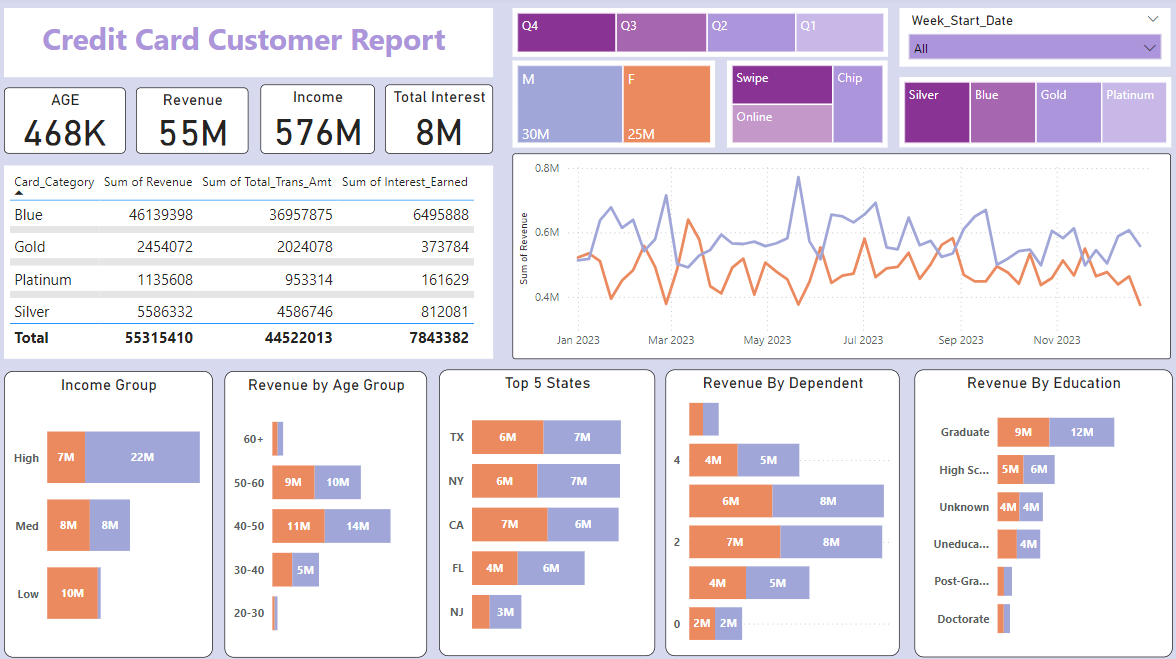

This screenshot's page, from the dashboard's own definition file:
{"tool":"powerbi","page":{"name":"Page 3","canvas":[1280,720],"ordinal":2},"visuals":[{"type":"slicer","fields":{"Values":["credit_card.Week_Start_Date"]},"box":[976.6,12.7,292.7,63.6],"z":0},{"type":"textbox","box":[9.5,12.7,528.1,74.8],"z":1},{"type":"barChart","title":"Income Group","fields":{"Y":["Sum(credit_card.Revenue)"],"Category":["customer.IncomeGroup"],"Series":["customer.Gender"]},"box":[9.7,404.8,225.1,309.3],"z":2},{"type":"tableEx","fields":{"Values":["credit_card.Card_Category","Sum(credit_card.Revenue)","Sum(credit_card.Total_Trans_Amt)","Sum(credit_card.Interest_Earned)"]},"box":[9.5,182.9,528.1,208.4],"z":3},{"type":"card","title":"Revenue","fields":{"Values":["Sum(credit_card.Revenue)"]},"box":[152.2,98.8,121.4,71.2],"z":4},{"type":"card","title":"AGE","fields":{"Values":["Sum(customer.Customer_Age)"]},"box":[9.7,98.8,131.2,71.2],"z":5},{"type":"card","title":"Total Interest","fields":{"Values":["Sum(credit_card.Interest_Earned)"]},"box":[421,95.5,116.6,74.5],"z":6},{"type":"card","title":"Income","fields":{"Values":["Sum(customer.Income)"]},"box":[286.6,95.5,123.1,74.5],"z":7},{"type":"treemap","fields":{"Group":["credit_card.Qtr"],"Values":["Avg(credit_card.Client_Num)"]},"box":[558.3,12.7,405.6,52.5],"z":8},{"type":"treemap","fields":{"Values":["Avg(credit_card.Client_Num)"],"Group":["credit_card.Card_Category"]},"box":[976.4,87.4,293.1,76.1],"z":10},{"type":"lineChart","title":"Revenue by week","fields":{"Y":["Sum(credit_card.Revenue)"],"Series":["customer.Gender"],"Category":["credit_card.Week_Start_Date.Variation.Date Hierarchy.Year","credit_card.Week_Start_Date.Variation.Date Hierarchy.Month","credit_card.Week_Start_Date.Variation.Date Hierarchy.Day"]},"box":[558.6,170,710.8,221.8],"z":12},{"type":"barChart","title":" Revenue by Age Group","fields":{"Y":["Sum(credit_card.Revenue)"],"Category":["customer.AgeGroup"],"Series":["customer.Gender"]},"box":[247.7,404.8,218.6,309.3],"z":14},{"type":"barChart","title":"Top 5 States","fields":{"Y":["Sum(credit_card.Revenue)"],"Category":["customer.state_cd"],"Series":["customer.Gender"]},"box":[479.3,403.2,233.2,309.3],"z":15},{"type":"treemap","fields":{"Group":["customer.Gender"],"Values":["Sum(credit_card.Revenue)"]},"box":[558.6,69.6,218.6,93.9],"z":16},{"type":"barChart","title":"Revenue By Dependent","fields":{"Y":["Sum(credit_card.Revenue)"],"Category":["customer.Dependent_Count"],"Series":["customer.Gender"]},"box":[723.8,403.2,252.6,309.3],"z":17},{"type":"barChart","title":"Revenue By Education","fields":{"Y":["Sum(credit_card.Revenue)"],"Category":["customer.Education_Level"],"Series":["customer.Gender"]},"box":[992.6,403.2,278.5,310.9],"z":18},{"type":"treemap","fields":{"Group":["credit_card.Use Chip"],"Values":["Avg(credit_card.Client_Num)"]},"box":[790.2,69.6,173.3,93.9],"z":19}]}

Visuals, with their boxes in screenshot pixels (x1, y1, x2, y2), scaled from the page's 1280x720 canvas onto the 1176x659 screenshot:
slicer - credit_card.Week_Start_Date: 897,12,1166,70
textbox: 9,12,494,80
"Income Group" barChart: 9,371,216,654
tableEx - credit_card.Card_Category x Sum(credit_card.Revenue): 9,167,494,358
"Revenue" card: 140,90,251,156
"AGE" card: 9,90,129,156
"Total Interest" card: 387,87,494,156
"Income" card: 263,87,376,156
treemap - credit_card.Qtr x Avg(credit_card.Client_Num): 513,12,886,60
treemap - Avg(credit_card.Client_Num) x credit_card.Card_Category: 897,80,1166,150
"Revenue by week" lineChart: 513,156,1166,359
" Revenue by Age Group" barChart: 228,371,428,654
"Top 5 States" barChart: 440,369,655,652
treemap - customer.Gender x Sum(credit_card.Revenue): 513,64,714,150
"Revenue By Dependent" barChart: 665,369,897,652
"Revenue By Education" barChart: 912,369,1168,654
treemap - credit_card.Use Chip x Avg(credit_card.Client_Num): 726,64,885,150
